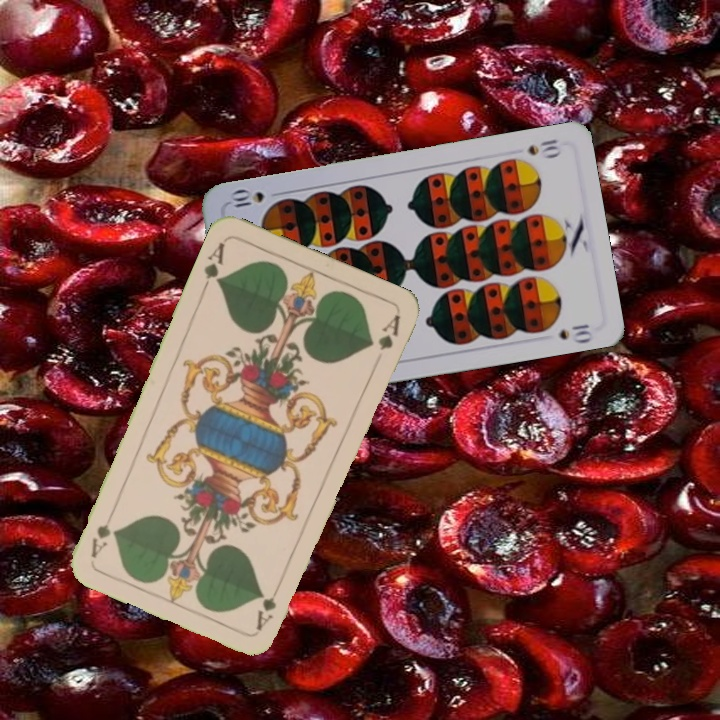GA: (252, 577, 285, 633), (198, 238, 228, 294)
S10: (523, 135, 564, 161)
